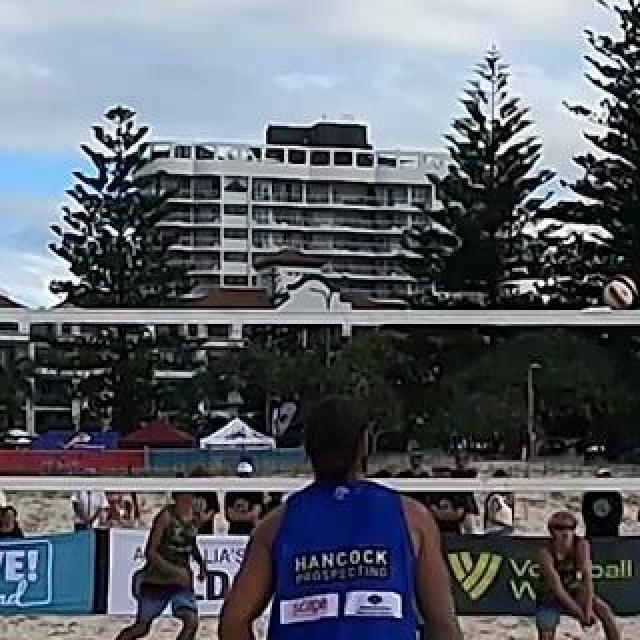volleyball: (605, 277, 637, 309)
